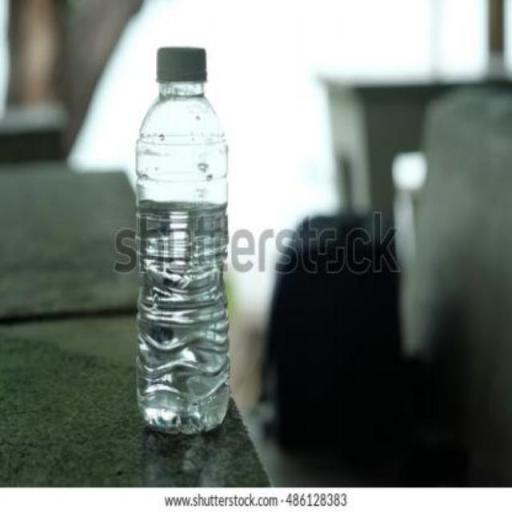Coca: (131, 33, 237, 444)
